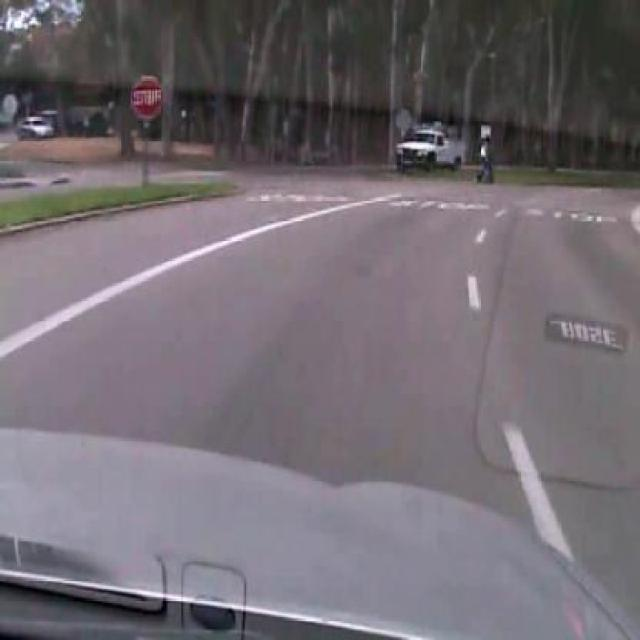stop: (131, 75, 162, 121)
